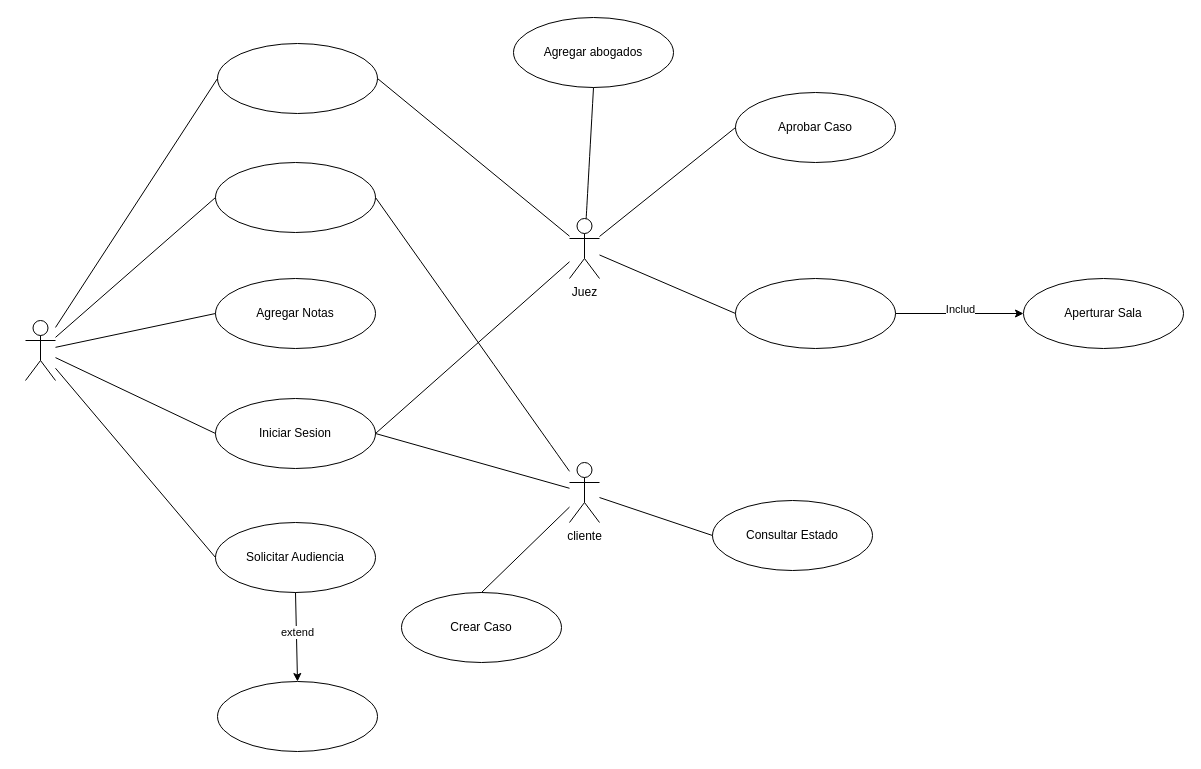
Some shapes in this 1201 by 769 pixel diagram are drawn without their labels. Here are the shapes that lost their labels. From the top down, the box of each, then its label:
(216, 42, 378, 114): Visualizar los casos
(214, 162, 376, 232): Subir Documento
(734, 278, 896, 348): Aperturar Audiencia
(24, 320, 56, 380): abogado
(216, 680, 378, 752): Notificar Cliente
